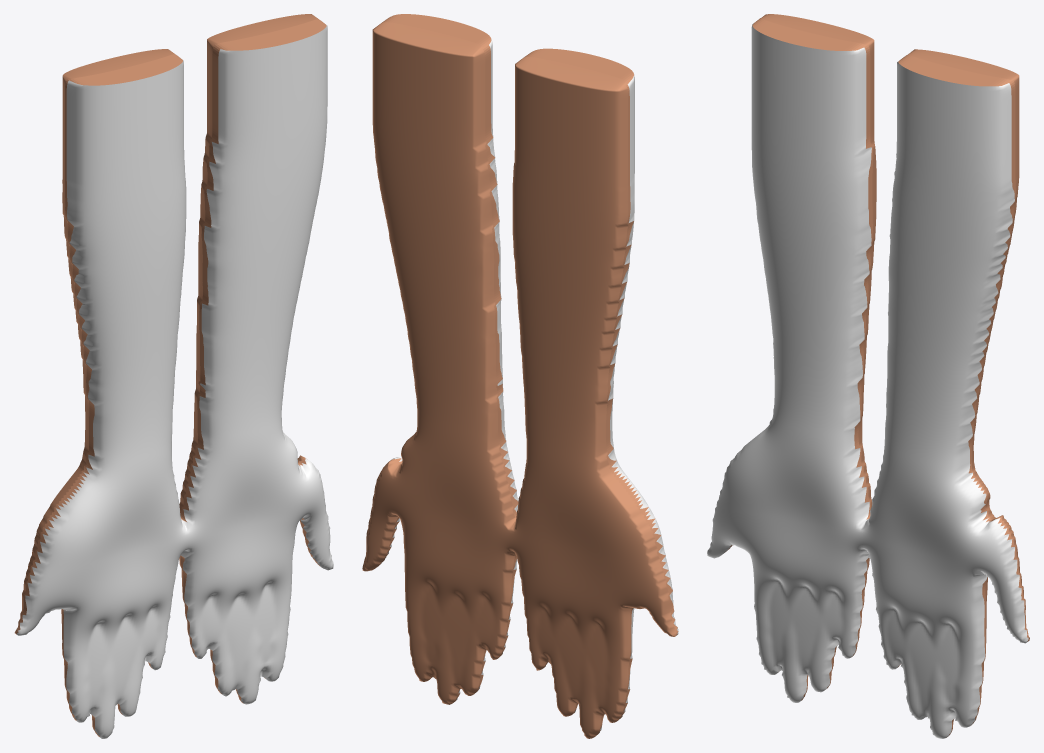
Rendered from hands.glb.
3 renders of one model, left to right at view 1: azimuth 30°, elevation 25°; view 2: azimuth 150°, elevation 25°; view 3: azimuth 330°, elevation 25°, orthographic. The views are drawn at different scales.
Parts seen in each view (by area): view 1: hands; view 2: hands; view 3: hands.
Boxes of the visible parts, x1,y1,x2,y2 form: hands: [14, 14, 333, 738]; hands: [362, 14, 678, 738]; hands: [707, 14, 1029, 738].
Size of the model in its own units: 10.93 by 22.13 by 1.89.
